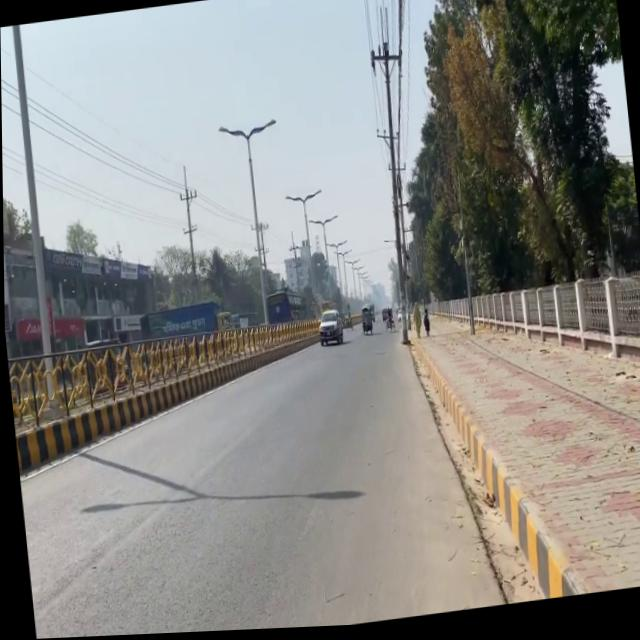Broken-road: (307, 300, 352, 354)
Construction-barrier: (405, 332, 507, 616)
Fallen-tree: (360, 319, 373, 339), (382, 318, 394, 335)
Garbage-bin: (409, 305, 423, 341)
Light-pole: (7, 23, 58, 403)
Pole: (8, 307, 233, 473)
Pothole: (402, 287, 640, 617)
Traffic-cone: (263, 288, 307, 326)
